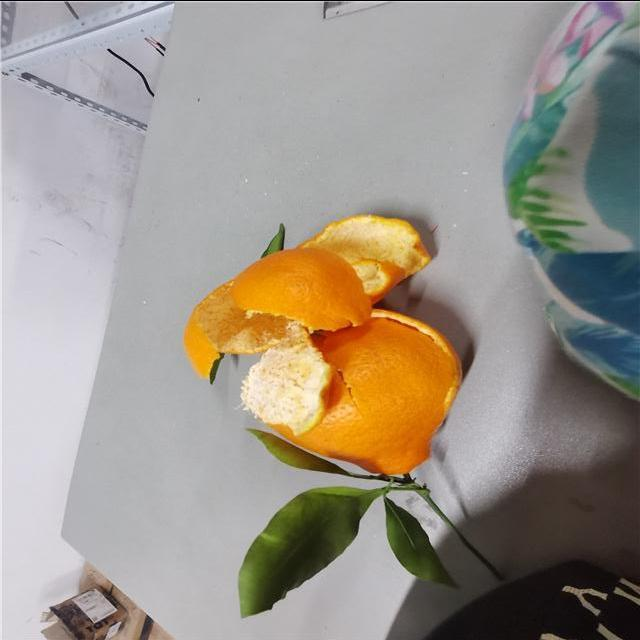orange peel: (185, 212, 432, 382), (238, 307, 466, 474)
